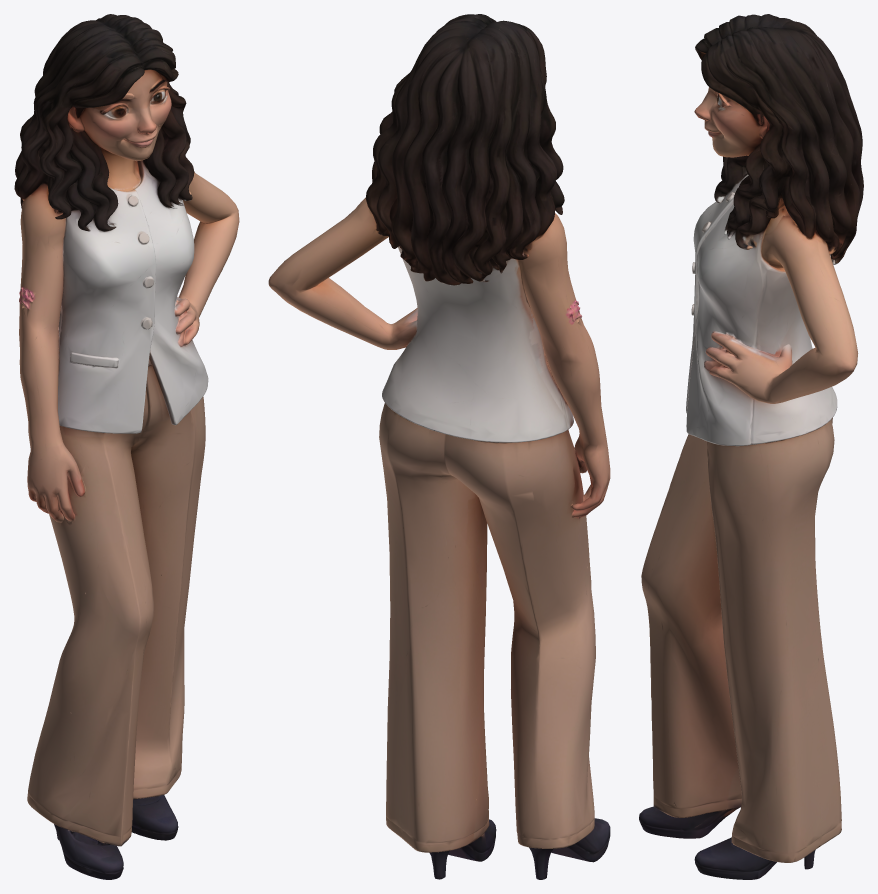
Rendered from mona.glb.
3 renders of one model, left to right at view 1: azimuth 30°, elevation 25°; view 2: azimuth 150°, elevation 25°; view 3: azimuth 270°, elevation 25°, orthographic. The views are drawn at different scales.
Visible parts, largest first — view 1: Mona; view 2: Mona; view 3: Mona.
Boxes of the visible parts, <box> form: Mona: <box>14,14,239,879</box>; Mona: <box>268,14,610,879</box>; Mona: <box>639,14,863,879</box>.
Bounding box in the file's own units: 0.3925 × 1.14 × 0.2775.
1 material, 1 textured.
